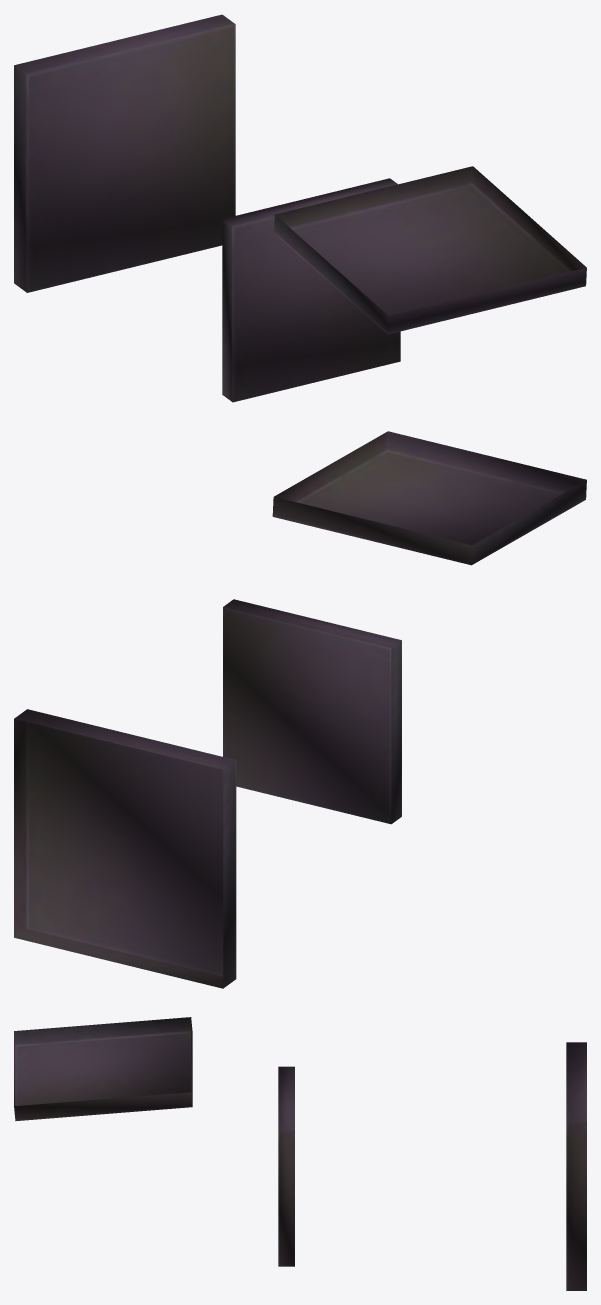
File: sundries_12_0764be0a__ZombiesII_depot_diffuse_08_ba9eed24_c1f257.obj
The picture shows the model from 3 angles, top to bottom: view 1: azimuth 30°, elevation 25°; view 2: azimuth 150°, elevation 25°; view 3: azimuth 270°, elevation 25°; orthographic projection. The views are drawn at different scales.
Bounding box in the file's own units: 1.17 × 1.36 × 3.58.
Materials: 1 (1 with a texture image).
